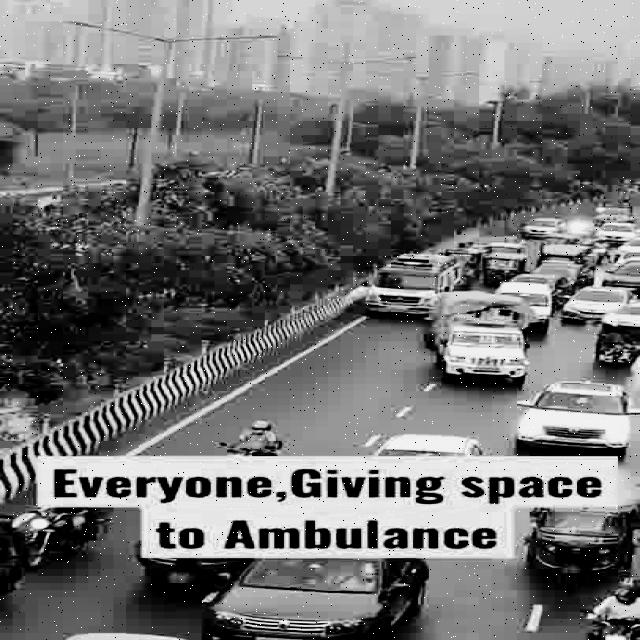Ambulance: (364, 251, 464, 313)
